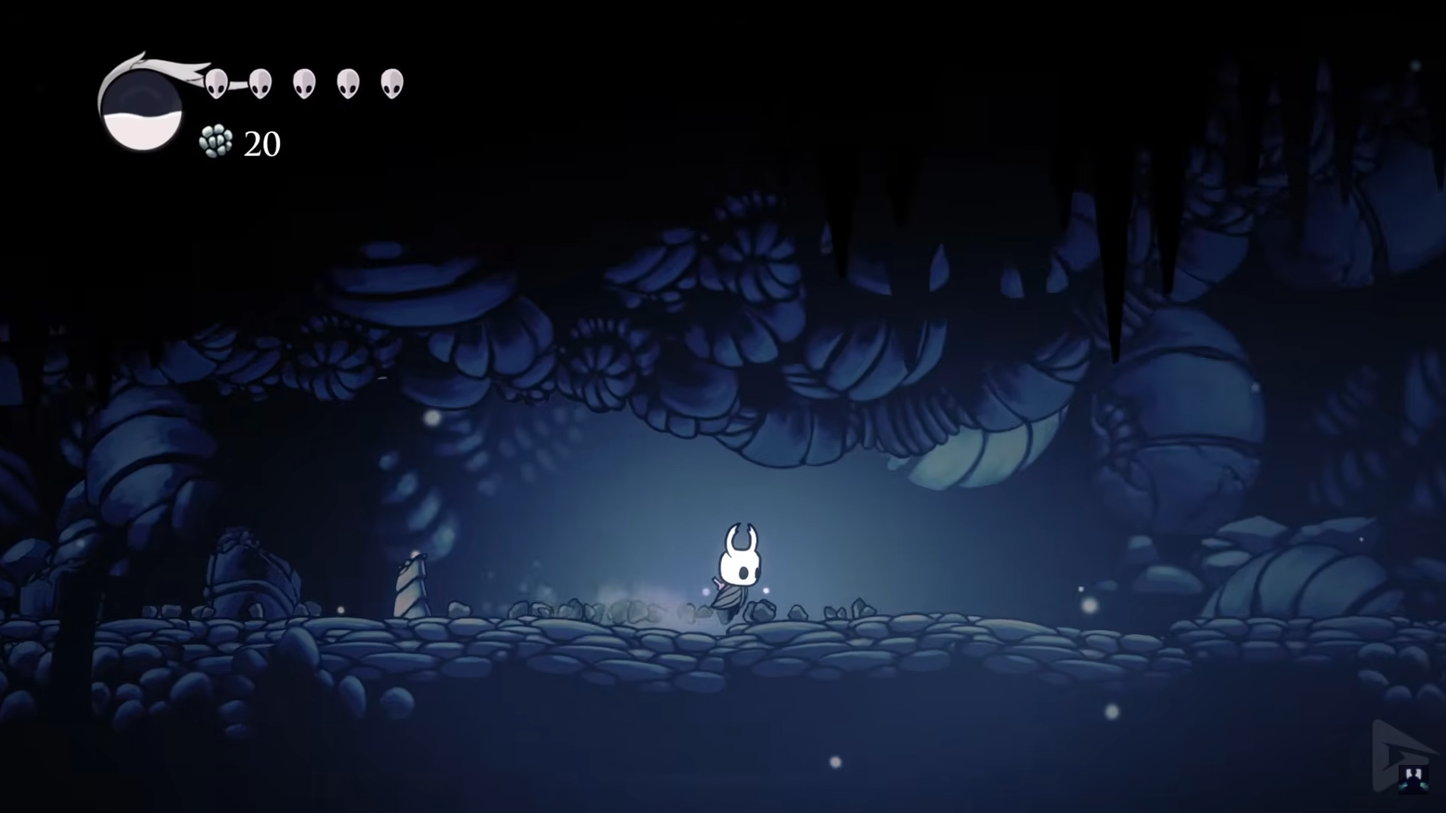HK: (708, 516, 767, 631)
